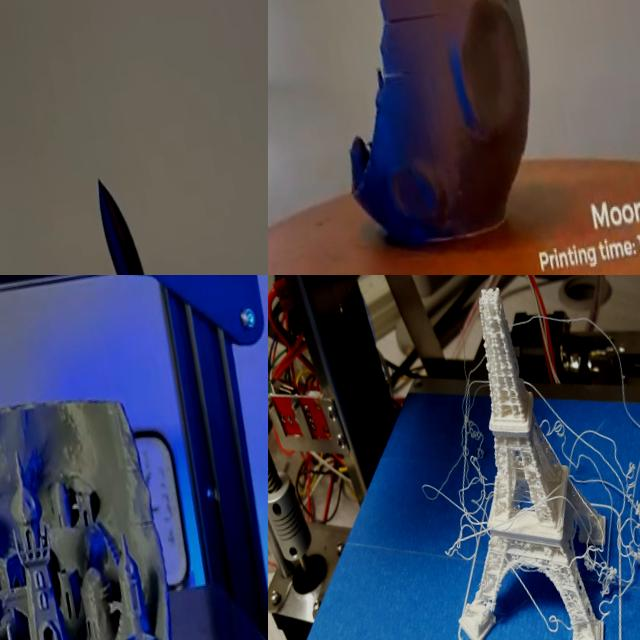spaghetti: (400, 275, 640, 640)
